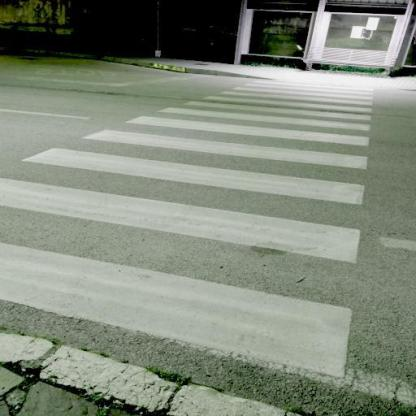crosswalk: (13, 126, 375, 210)
